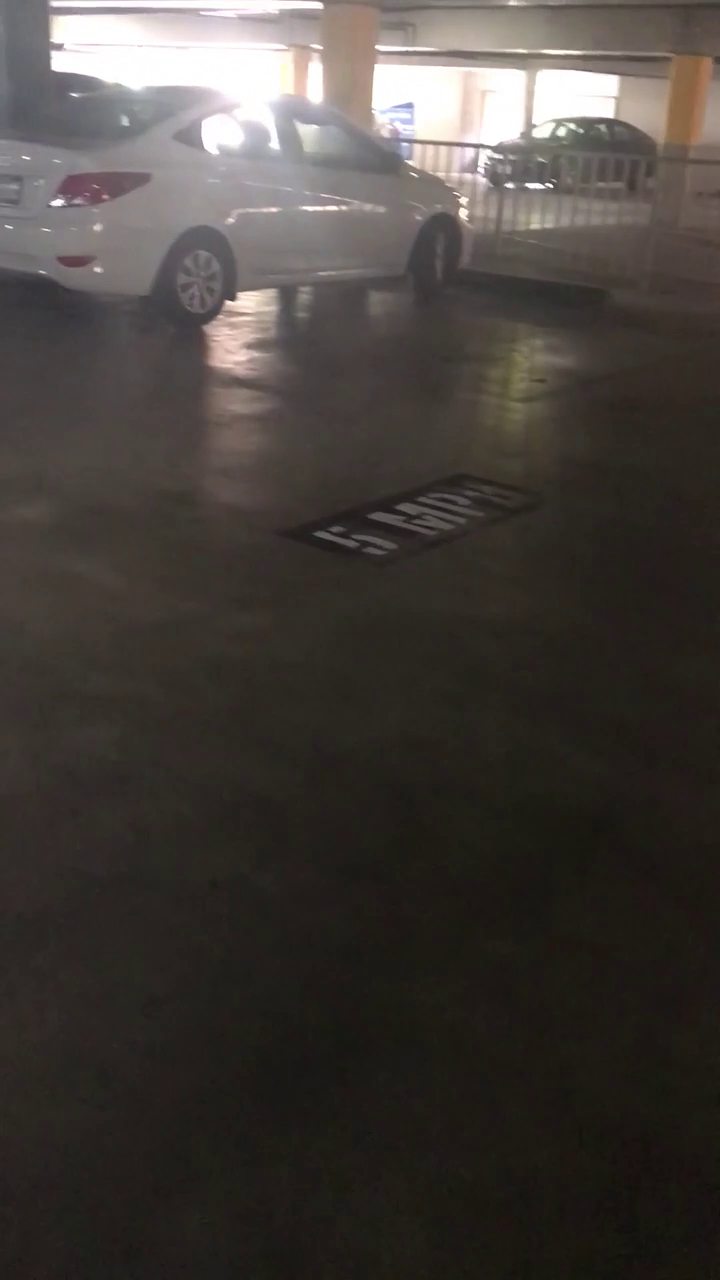car: (3, 58, 456, 341)
